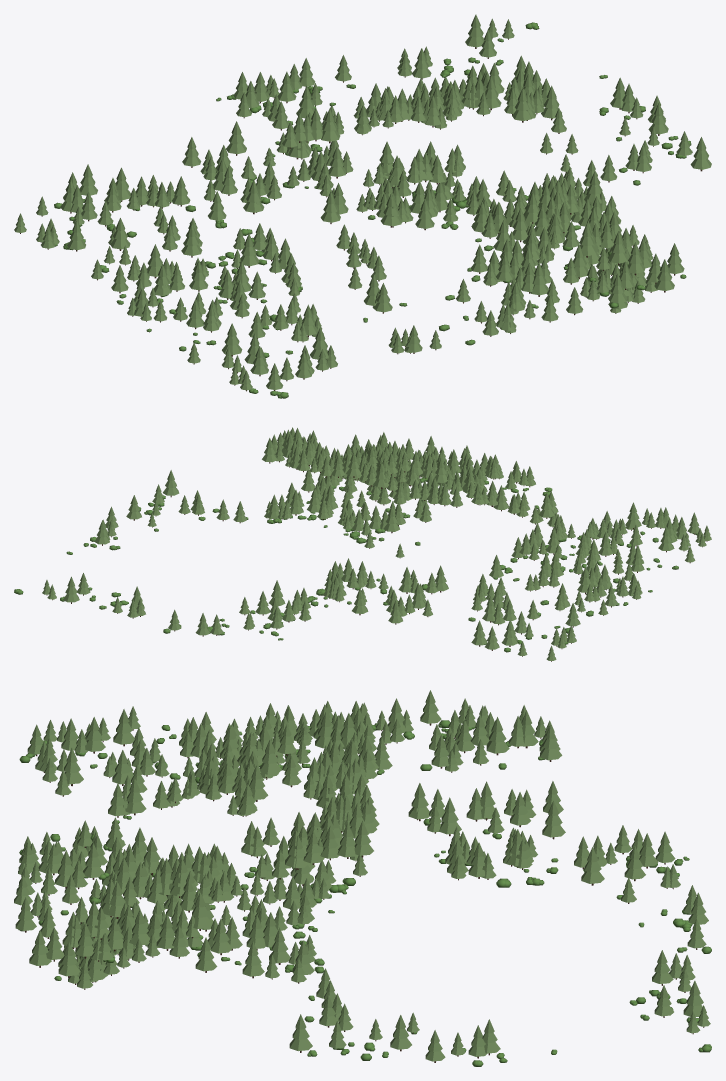
The model's file is z2-foret.glb.
3 renders of one model, top to bottom at view 1: azimuth 30°, elevation 25°; view 2: azimuth 150°, elevation 25°; view 3: azimuth 270°, elevation 25°, orthographic. The views are drawn at different scales.
Visible parts, largest first — view 1: Z2_Vegetation_ConifersForest_Needles, Z2_Vegetation_Conifers_Needles, Z2_Vegetation_ConifersLakeside_Needles, Z2_Vegetation_ConifersForest_Bushes, Z2_Vegetation_ConifersLakeside_Bushes; view 2: Z2_Vegetation_ConifersForest_Needles, Z2_Vegetation_Conifers_Needles, Z2_Vegetation_ConifersLakeside_Needles, Z2_Vegetation_ConifersForest_Bushes, Z2_Vegetation_ConifersLakeside_Bushes; view 3: Z2_Vegetation_ConifersForest_Needles, Z2_Vegetation_Conifers_Needles, Z2_Vegetation_ConifersLakeside_Needles, Z2_Vegetation_ConifersForest_Bushes, Z2_Vegetation_ConifersLakeside_Bushes.
Boxes of the visible parts, x1=… form: Z2_Vegetation_ConifersForest_Needles: x1=14, y1=121, x2=684, y2=390; Z2_Vegetation_Conifers_Needles: x1=282, y1=55, x2=657, y2=353; Z2_Vegetation_ConifersLakeside_Needles: x1=233, y1=14, x2=711, y2=212; Z2_Vegetation_ConifersForest_Bushes: x1=54, y1=141, x2=686, y2=398; Z2_Vegetation_ConifersLakeside_Bushes: x1=216, y1=22, x2=692, y2=211; Z2_Vegetation_ConifersForest_Needles: x1=266, y1=432, x2=711, y2=660; Z2_Vegetation_Conifers_Needles: x1=262, y1=427, x2=565, y2=529; Z2_Vegetation_ConifersLakeside_Needles: x1=42, y1=470, x2=404, y2=635; Z2_Vegetation_ConifersForest_Bushes: x1=267, y1=474, x2=698, y2=652; Z2_Vegetation_ConifersLakeside_Bushes: x1=14, y1=495, x2=384, y2=640; Z2_Vegetation_ConifersForest_Needles: x1=14, y1=690, x2=565, y2=978; Z2_Vegetation_Conifers_Needles: x1=58, y1=701, x2=379, y2=988; Z2_Vegetation_ConifersLakeside_Needles: x1=286, y1=825, x2=710, y2=1061; Z2_Vegetation_ConifersForest_Bushes: x1=18, y1=720, x2=558, y2=980; Z2_Vegetation_ConifersLakeside_Bushes: x1=299, y1=856, x2=711, y2=1066.
Size of the model in its own units: 146 by 36.45 by 128.
